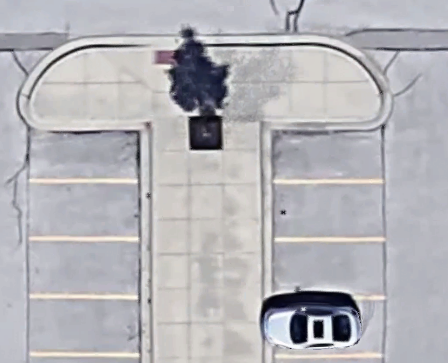Occupied: (269, 299, 386, 356)
Vacant: (28, 180, 145, 239), (269, 181, 386, 240), (29, 296, 145, 355), (269, 240, 385, 299), (28, 239, 145, 297), (267, 127, 385, 181), (29, 127, 145, 181)
